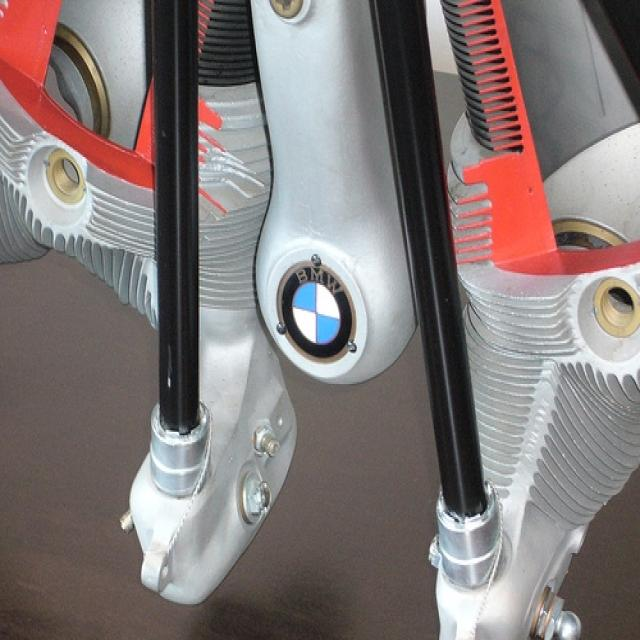bmw: (278, 259, 360, 365)
